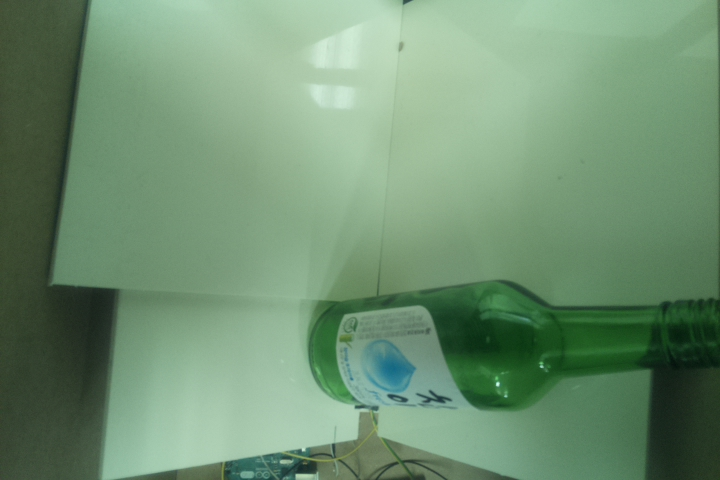soju: (306, 277, 720, 416)
